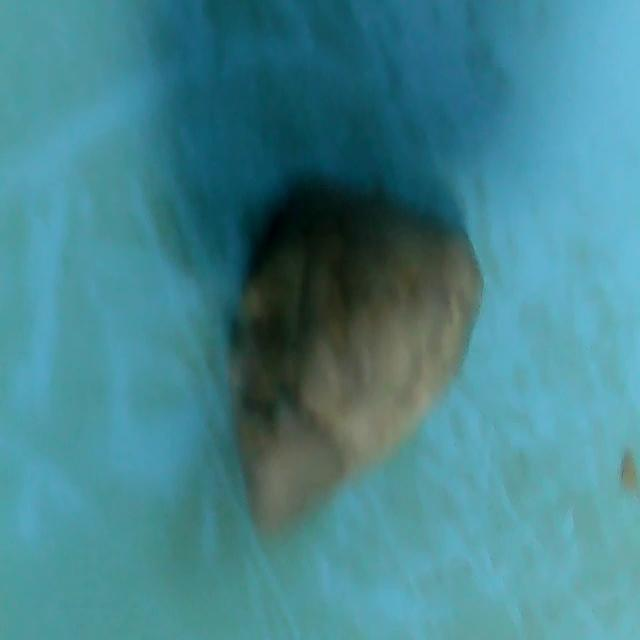rock: (225, 170, 487, 545)
